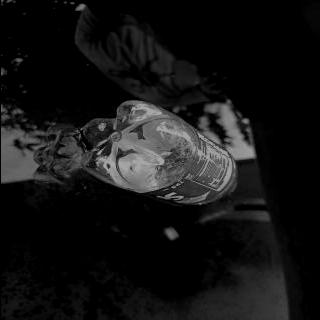bottle: (78, 100, 240, 206)
